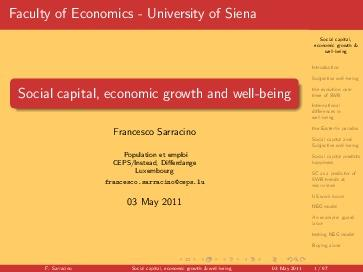title: (14, 82, 299, 105)
